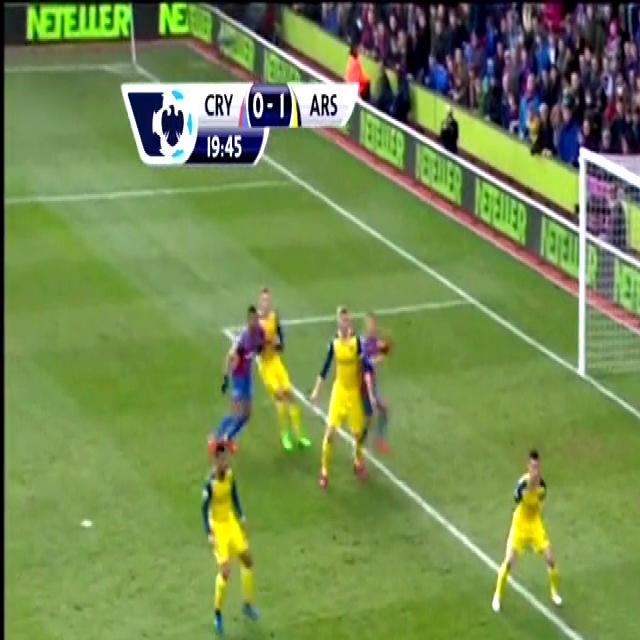goalkeeper: (634, 352, 640, 523)
soccer-player: (197, 441, 277, 640), (489, 444, 576, 626), (311, 304, 362, 498), (258, 279, 308, 462), (212, 294, 258, 466), (359, 300, 400, 490)
